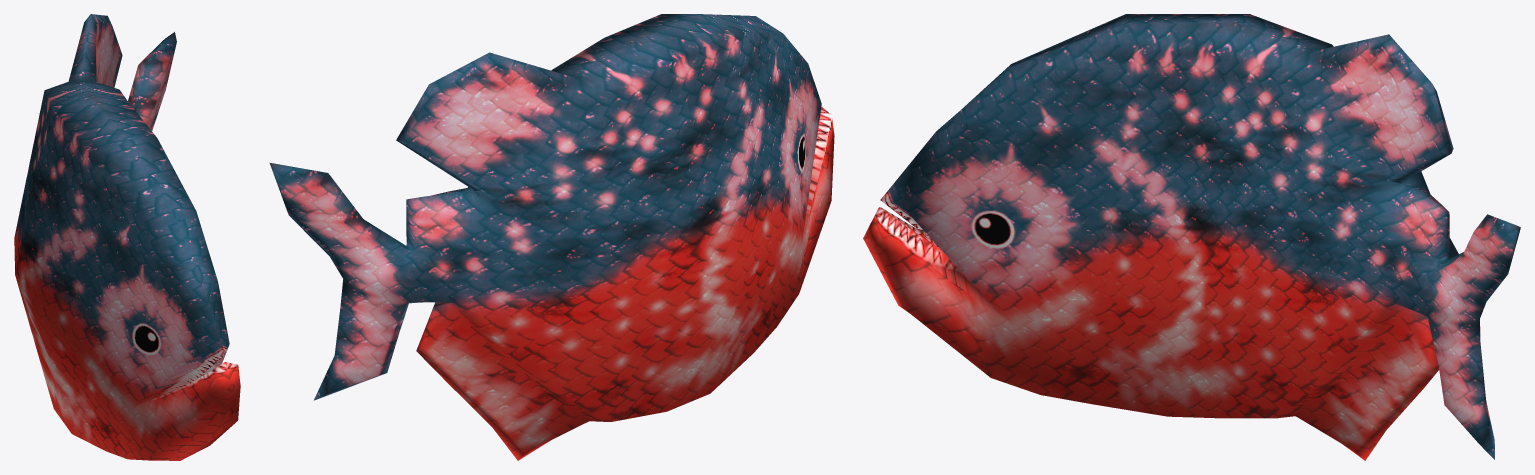
The model's file is piranapirana.fbx.
The picture shows the model from 3 angles, left to right: view 1: azimuth 30°, elevation 25°; view 2: azimuth 150°, elevation 25°; view 3: azimuth 270°, elevation 25°; orthographic projection. The views are drawn at different scales.
Visible parts, largest first — view 1: pCube1; view 2: pCube1; view 3: pCube1.
Part boxes in pixels (bbox=[...]): pCube1: bbox=[14, 14, 240, 460]; pCube1: bbox=[269, 14, 834, 460]; pCube1: bbox=[863, 14, 1520, 460].
Size of the model in its own units: 19.4 by 23.94 by 32.77.
Materials: 1 (1 with a texture image).
